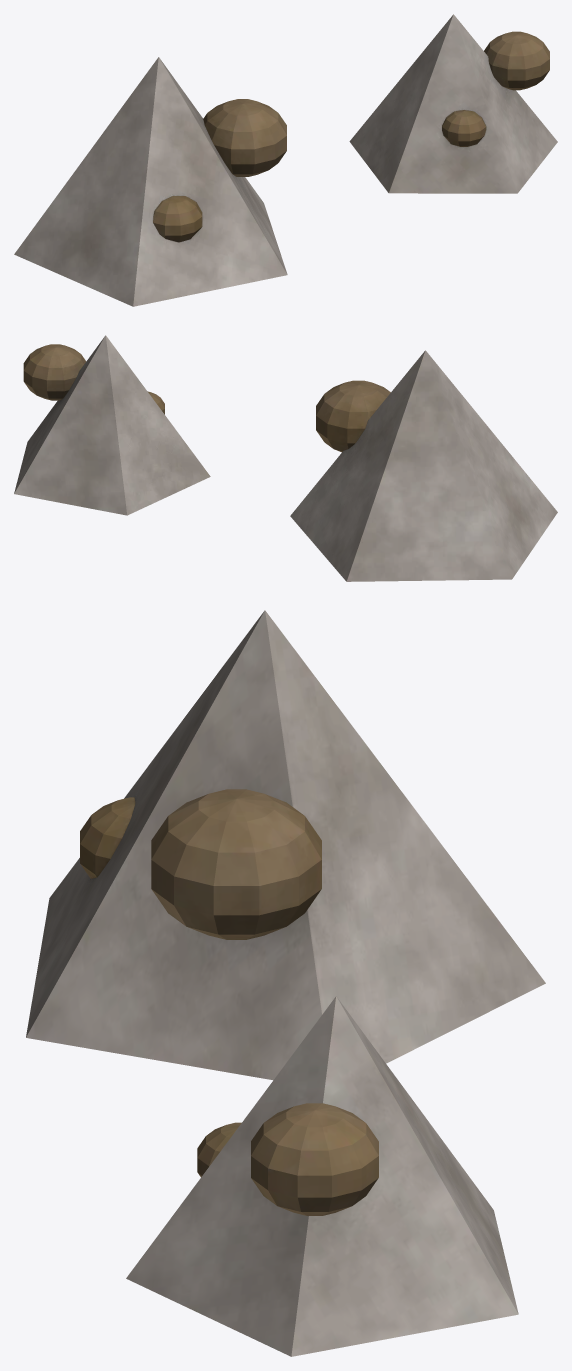
The model's file is res_iron_1.glb.
3 views of the same model, one above another, from view 1: azimuth 30°, elevation 25°; view 2: azimuth 150°, elevation 25°; view 3: azimuth 270°, elevation 25° (orthographic). The views are drawn at different scales.
Parts seen in each view (by area): view 1: dilek; view 2: dilek; view 3: dilek.
Part boxes in pixels (left/top/right/bottom): dilek: left=14, top=14, right=557, bottom=306; dilek: left=14, top=335, right=557, bottom=581; dilek: left=26, top=610, right=545, bottom=1356.
Bounding box in the file's own units: 0.5788 × 0.2 × 0.2585.
1 material, 1 textured.
